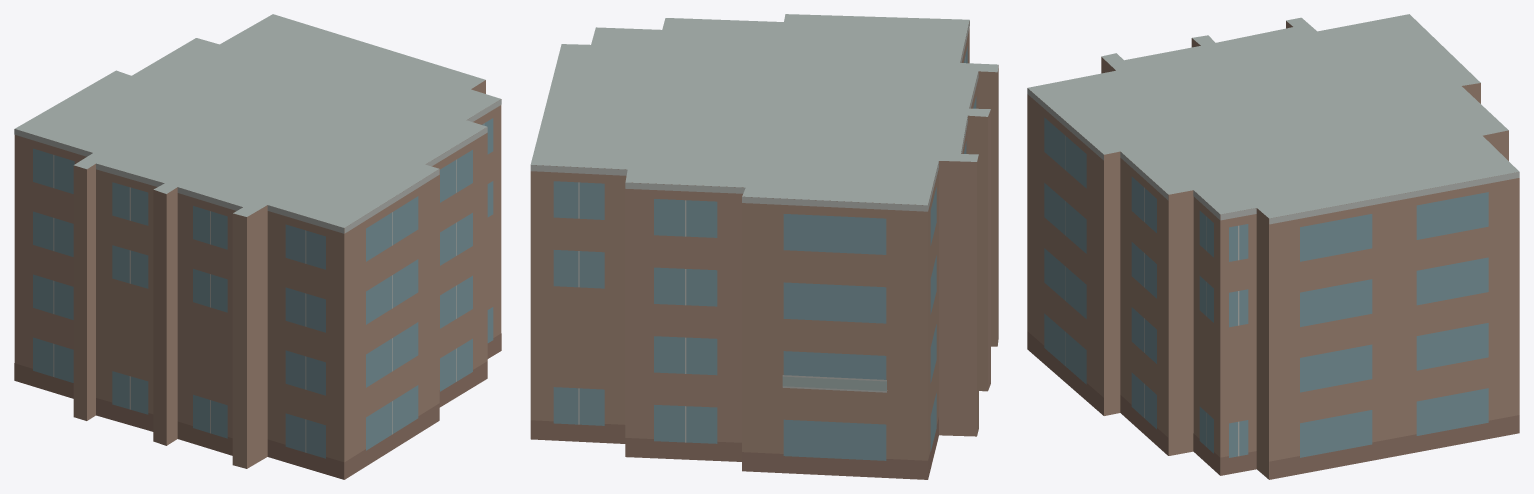
Rendered from survey-upis-32470658.glb.
3 renders of one model, left to right at view 1: azimuth 30°, elevation 25°; view 2: azimuth 150°, elevation 25°; view 3: azimuth 270°, elevation 25°, orthographic. The views are drawn at different scales.
Visible parts, largest first — view 1: survey-upis-32470658.tmp; view 2: survey-upis-32470658.tmp; view 3: survey-upis-32470658.tmp.
Boxes of the visible parts, box(x1,y1,x2,y2) form: survey-upis-32470658.tmp: box(14, 14, 501, 479); survey-upis-32470658.tmp: box(530, 14, 998, 479); survey-upis-32470658.tmp: box(1027, 14, 1519, 479).
Size of the model in its own units: 17.71 by 10.55 by 18.02.
